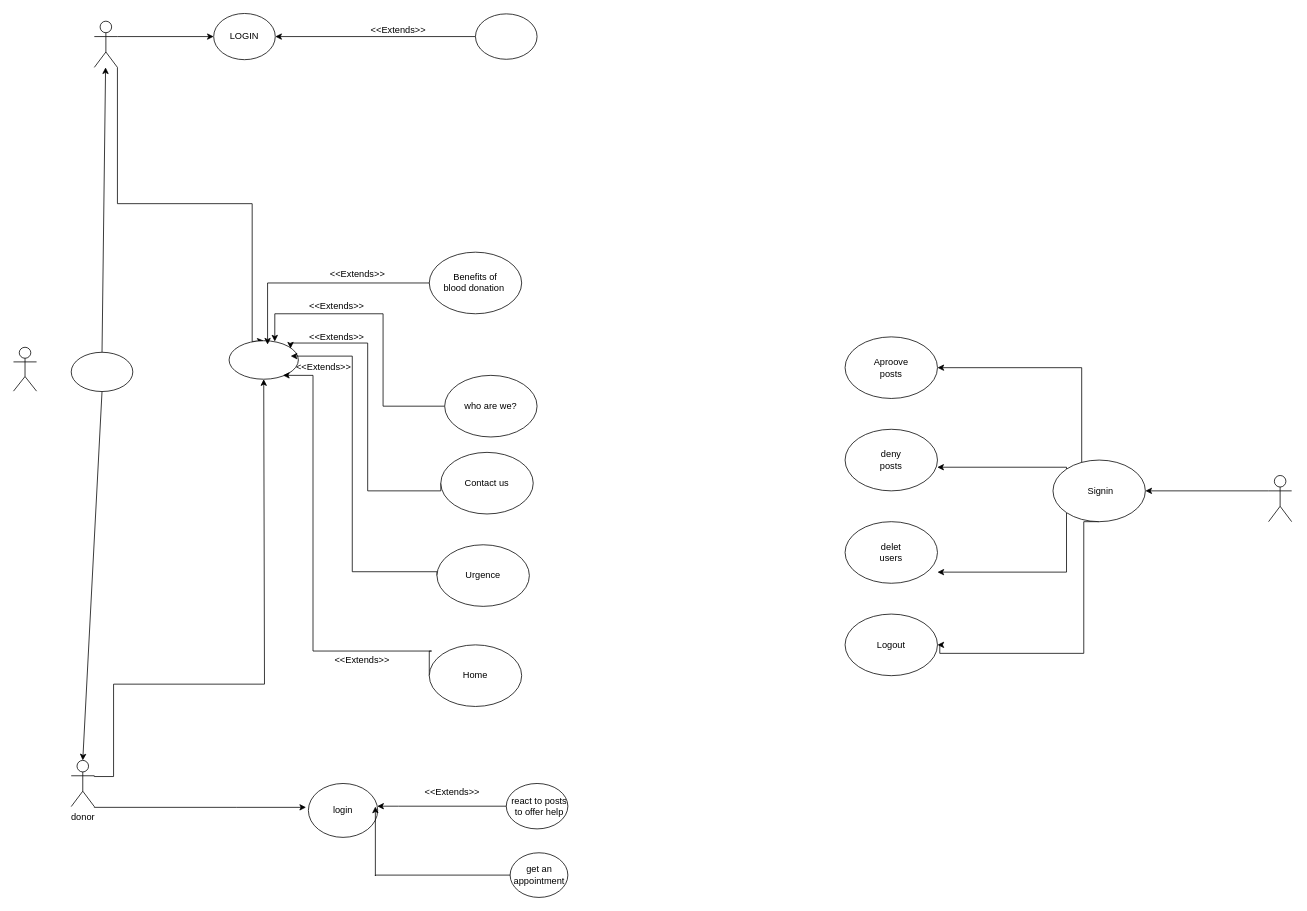
This 1307x911 diagram has some shape labels left out. The centre of each missing label's shape, as x and y in pixels:
"Admin" belongs at point (1280, 498).
"Browse the web site" belongs at point (263, 359).
"patient" belongs at point (105, 43).
"Post" belongs at point (506, 36).
"Signup" belongs at point (101, 372).
"User" belongs at point (25, 368).
